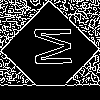M: (25, 25, 71, 68)
